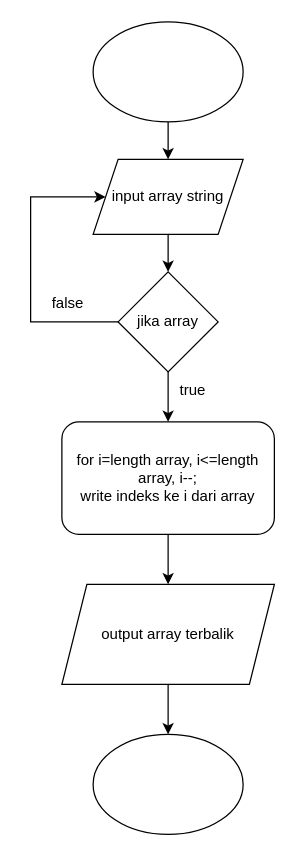
Some shapes in this 296 by 856 pixel diagram are drawn without their labels. The shapes that lost their labels are listed below. From the top down, each one's centre as x and y in pixels, then its label:
At pixel 167 71: "mulai".
At pixel 167 783: "selesai".
